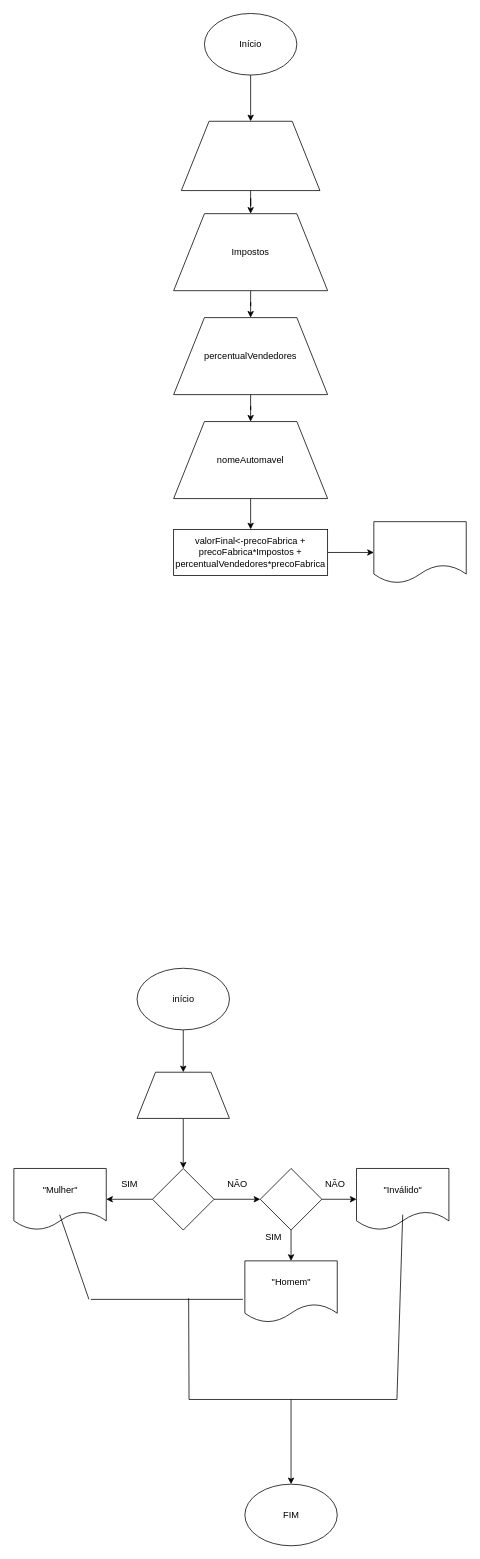
The diagram is 480 pixels wide and 1559 high, and some of its shapes have lost their labels. Each missing label, with the box of its shape:
"valor final é: " +valor final: (373, 521, 466, 583)
precoFabrica: (181, 121, 320, 191)
sexo: (136, 1071, 229, 1118)
sexo = F ou sexo =f: (152, 1168, 214, 1230)
sexo = m ou sexo =M: (259, 1168, 322, 1230)
